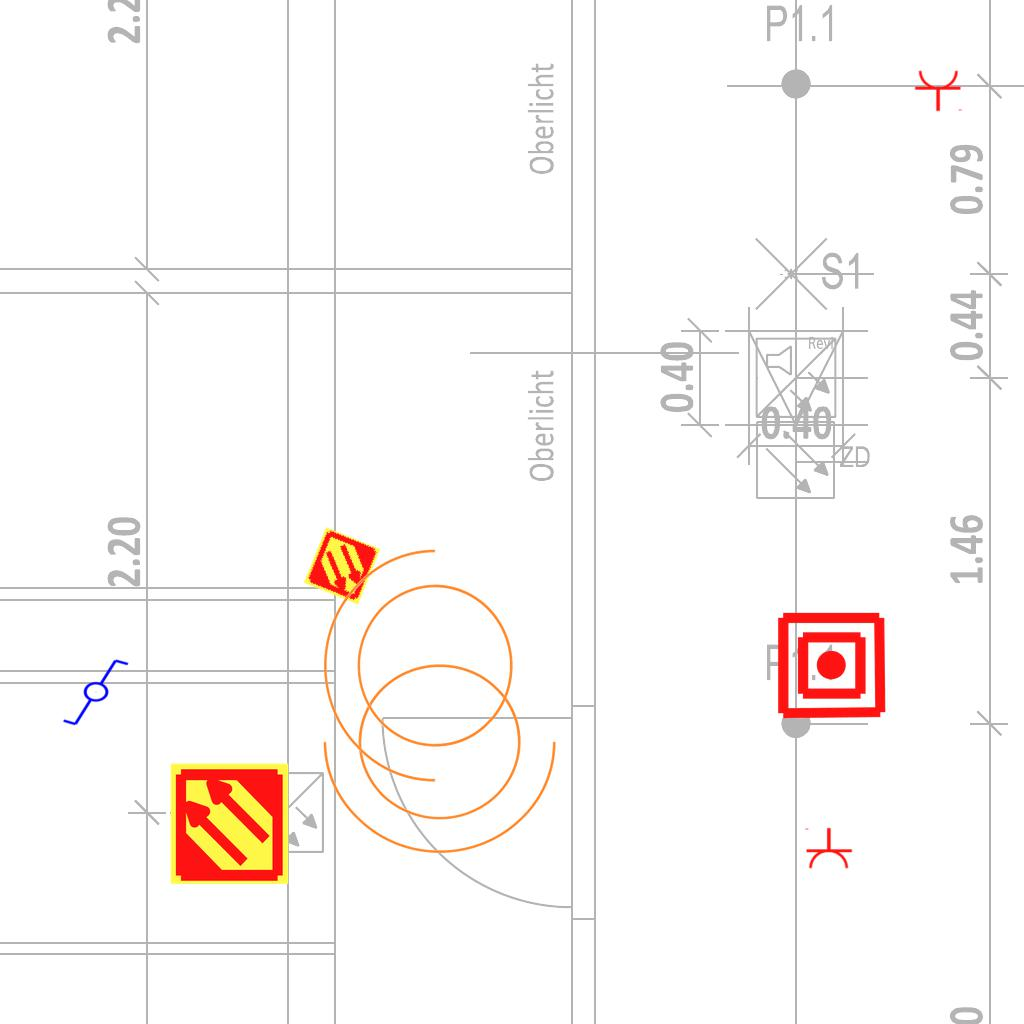ASR_Ansaugrauchmelder: (167, 761, 292, 886), (301, 525, 383, 607)
NAM-Nichtautomatischer_Melder: (775, 609, 888, 722)
Scheinwerfer_fuer_Alarmbeleuchtung: (314, 639, 578, 864), (313, 540, 538, 804)
Schukosteckdose_einfach: (803, 827, 853, 870), (914, 69, 964, 112)
Wechselschalter: (61, 657, 139, 729)
